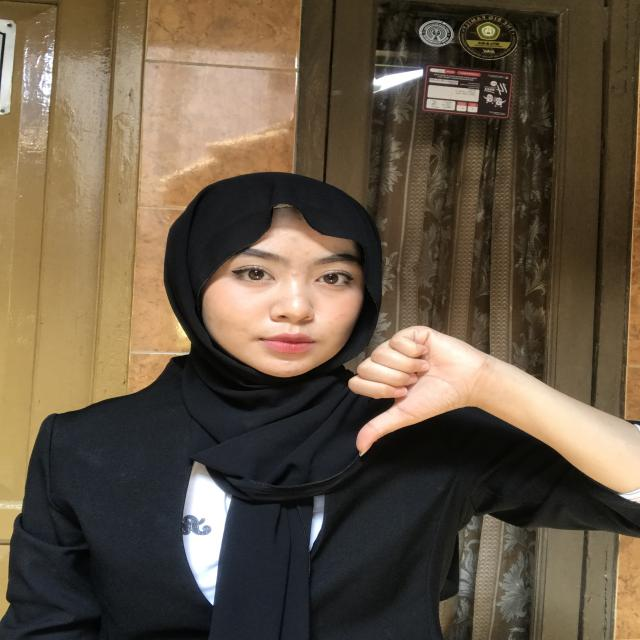sedih: (342, 300, 502, 481)
